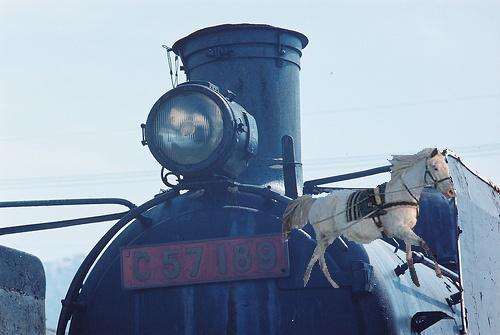tampered: (283, 149, 454, 288)
